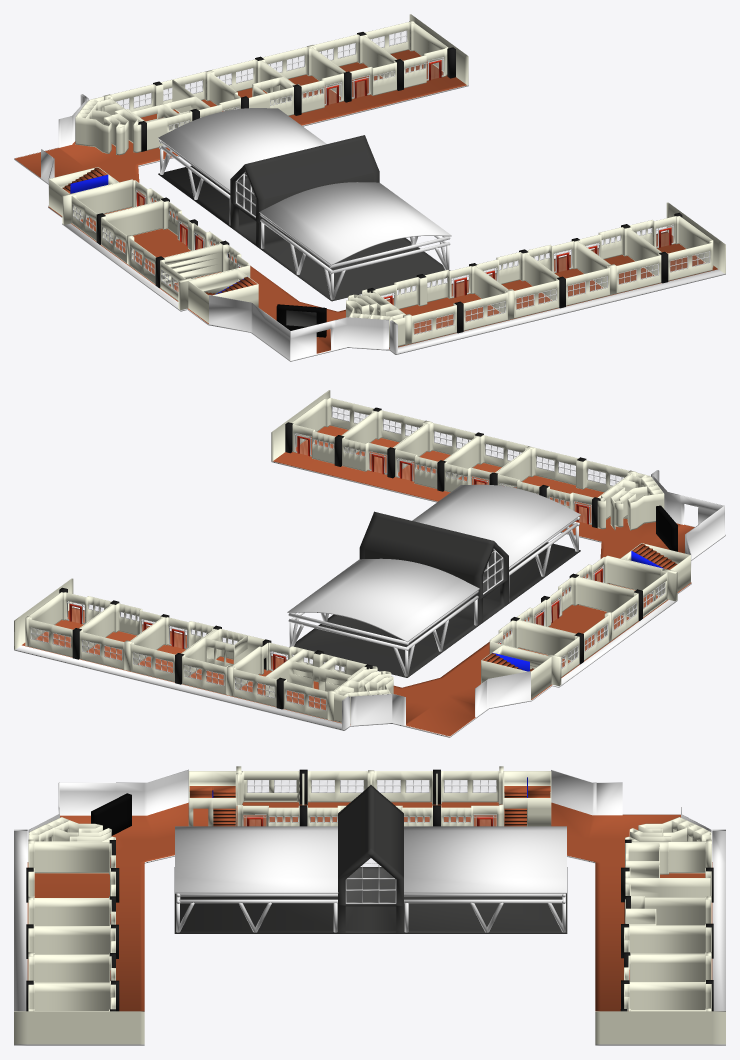
The model's file is Lantai 1.obj.
3 views of the same model, one above another, from view 1: azimuth 30°, elevation 25°; view 2: azimuth 150°, elevation 25°; view 3: azimuth 270°, elevation 25° (orthographic). The views are drawn at different scales.
Parts seen in each view (by area): view 1: Plaza_Supeno, Lantai_, IF_105, Pillar, IF_107, IF_109, IF_110, IF_112, IF_101, IF_104, IF_102, IF_103 (+10 smaller); view 2: Plaza_Supeno, Lantai_, IF_109, Pillar, IF_105, IF_107, IF_110, IF_102, IF_111, IF_112, IF_113, IF_103 (+10 smaller); view 3: Plaza_Supeno, Lantai_, IF_107, IF_109, Pillar, IF_106, IF_108, IF_105, Box540, IF_113, IF_101, IF_103 (+11 smaller).
Part boxes in pixels (x1,y1,x2,y2): Plaza_Supeno: [158, 108, 451, 301]; Lantai_: [14, 14, 725, 361]; IF_105: [372, 266, 507, 343]; Pillar: [62, 20, 682, 345]; IF_107: [101, 200, 222, 284]; IF_109: [109, 71, 240, 150]; IF_110: [210, 59, 294, 115]; IF_112: [312, 34, 396, 98]; IF_101: [628, 216, 713, 280]; IF_104: [475, 252, 559, 318]; IF_102: [577, 227, 661, 293]; IF_103: [526, 241, 609, 305]; Plaza_Supeno: [287, 484, 580, 677]; Lantai_: [14, 390, 725, 737]; IF_109: [233, 642, 366, 719]; Pillar: [25, 407, 677, 720]; IF_105: [496, 447, 630, 524]; IF_107: [517, 576, 638, 660]; IF_110: [182, 628, 264, 694]; IF_102: [342, 410, 426, 474]; IF_111: [130, 617, 214, 682]; IF_112: [79, 603, 162, 669]; IF_113: [28, 592, 112, 657]; IF_103: [394, 422, 477, 488]; Plaza_Supeno: [174, 785, 567, 933]; Lantai_: [14, 769, 725, 1045]; IF_107: [303, 771, 436, 826]; IF_109: [625, 841, 711, 908]; Pillar: [26, 766, 713, 1011]; IF_106: [237, 771, 303, 826]; IF_108: [437, 771, 503, 826]; IF_105: [28, 842, 115, 898]; Box540: [503, 771, 551, 826]; IF_113: [624, 982, 711, 1011]; IF_101: [28, 983, 115, 1011]; IF_103: [28, 926, 115, 954].
Size of the model in its own units: 67.23 by 10.59 by 82.08.
